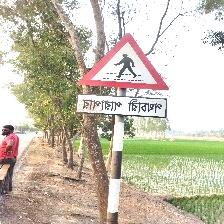Pedestrian-crossing: (76, 33, 170, 119)
